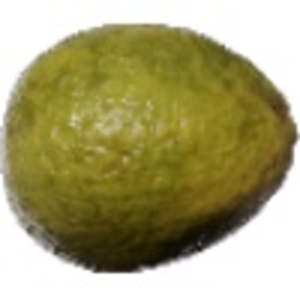goiaba: (2, 17, 298, 279)
